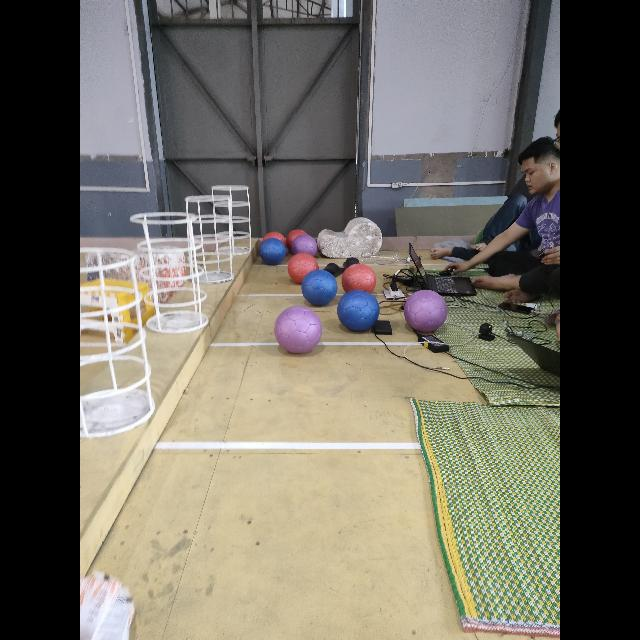B: (337, 290, 379, 330), (301, 269, 337, 305), (260, 238, 286, 264)
P: (274, 306, 322, 352), (404, 290, 448, 332), (291, 234, 317, 256)
R: (288, 252, 318, 284), (342, 264, 376, 292), (286, 230, 306, 250), (262, 232, 286, 246)
S: (80, 245, 158, 440), (130, 210, 210, 338), (182, 193, 238, 287), (80, 572, 134, 640), (214, 184, 256, 260)
